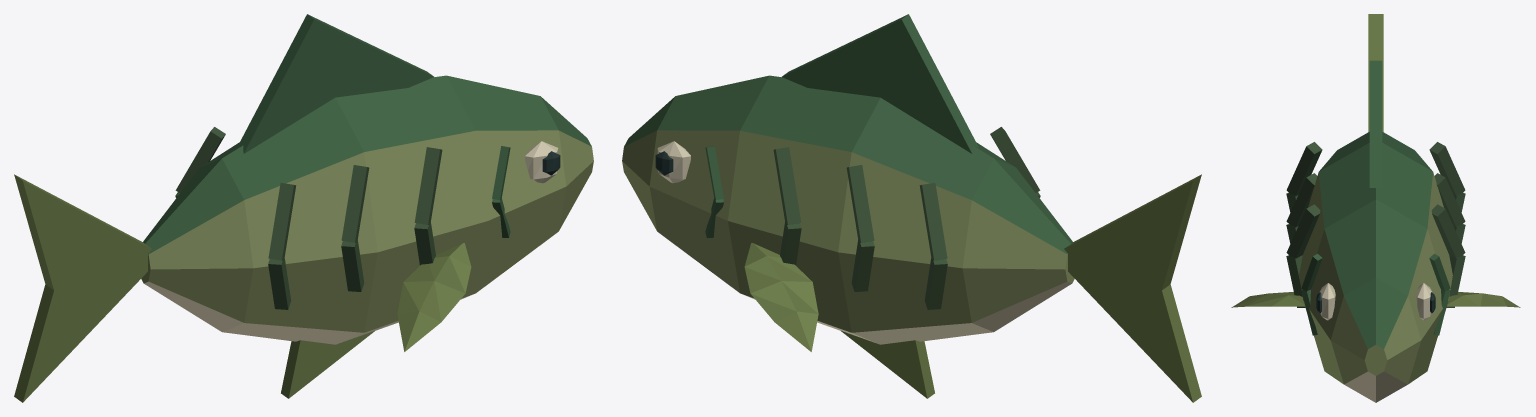
The model's file is fish_grasscarp.glb.
3 views of the same model, side by side, from view 1: azimuth 30°, elevation 25°; view 2: azimuth 150°, elevation 25°; view 3: azimuth 270°, elevation 25° (orthographic). The views are drawn at different scales.
Visible parts, largest first — view 1: fish_grasscarp; view 2: fish_grasscarp; view 3: fish_grasscarp.
Boxes of the visible parts, bbox=[...] form: fish_grasscarp: bbox=[14, 14, 593, 402]; fish_grasscarp: bbox=[622, 14, 1201, 402]; fish_grasscarp: bbox=[1231, 14, 1520, 402].
Bounding box in the file's own units: 0.6758 × 0.4234 × 0.342.
